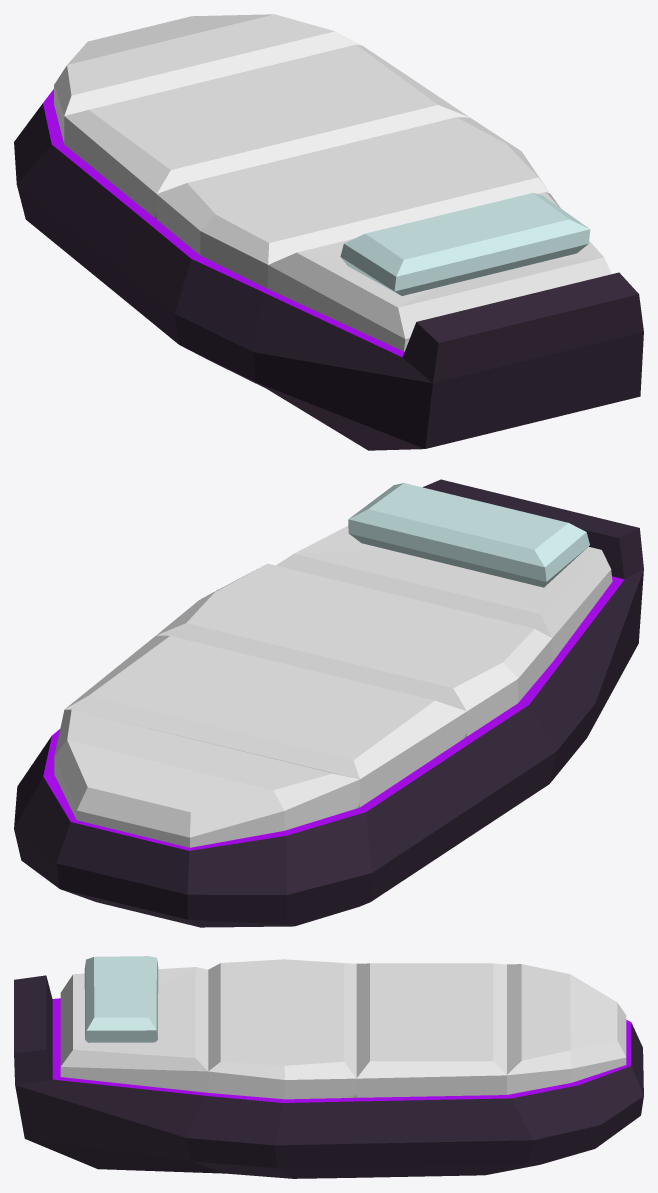
File: cama.FBX
3 views of the same model, one above another, from view 1: azimuth 30°, elevation 25°; view 2: azimuth 150°, elevation 25°; view 3: azimuth 270°, elevation 25° (orthographic). The views are drawn at different scales.
Parts seen in each view (by area): view 1: Box001; view 2: Box001; view 3: Box001.
Part boxes in pixels (x1,y1,x2,y2): Box001: (14, 14, 643, 450); Box001: (14, 479, 643, 927); Box001: (14, 956, 643, 1178).
Bounding box in the file's own units: 38.22 × 17.47 × 71.99.
